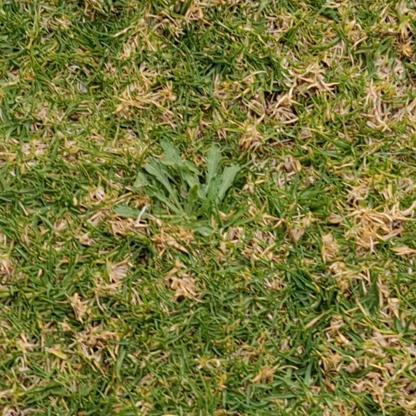Weeds: (113, 141, 242, 237)
